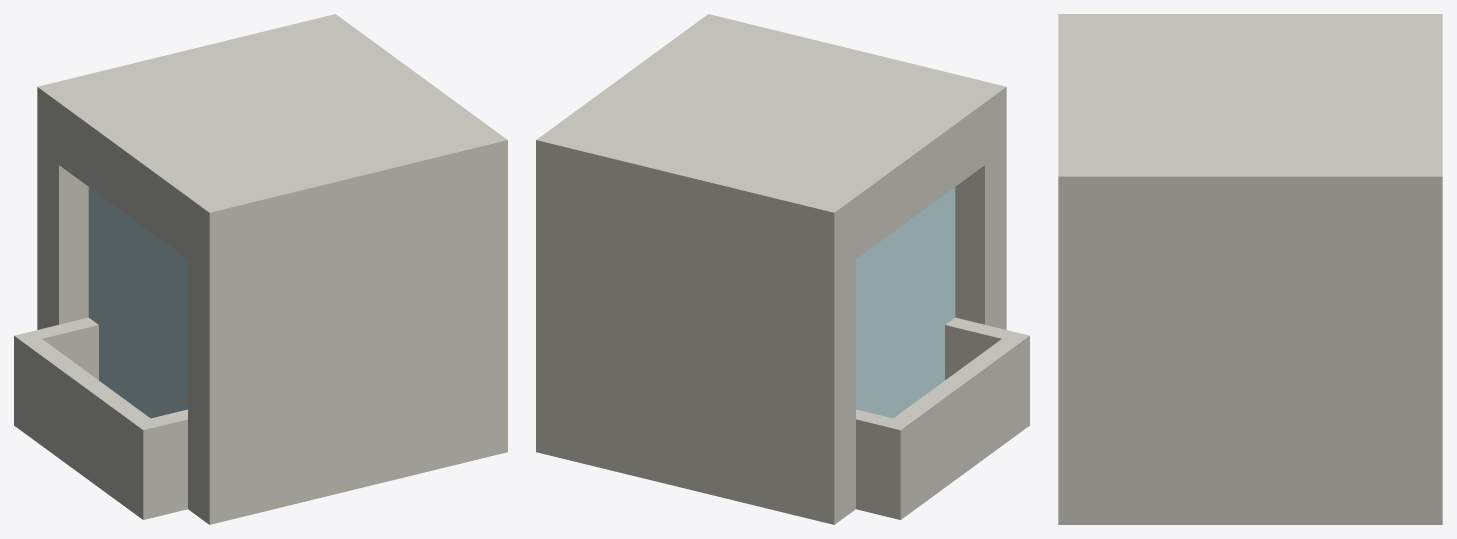
File: Building Story 20.fbx
The picture shows the model from 3 angles, left to right: view 1: azimuth 30°, elevation 25°; view 2: azimuth 150°, elevation 25°; view 3: azimuth 270°, elevation 25°; orthographic projection. The views are drawn at different scales.
Parts seen in each view (by area): view 1: Building Story 20; view 2: Building Story 20; view 3: Building Story 20.
Boxes of the visible parts, bbox=[...] form: Building Story 20: bbox=[14, 14, 507, 524]; Building Story 20: bbox=[536, 14, 1029, 524]; Building Story 20: bbox=[1058, 14, 1442, 524].
Size of the model in its own units: 1.15 by 1 by 1.
